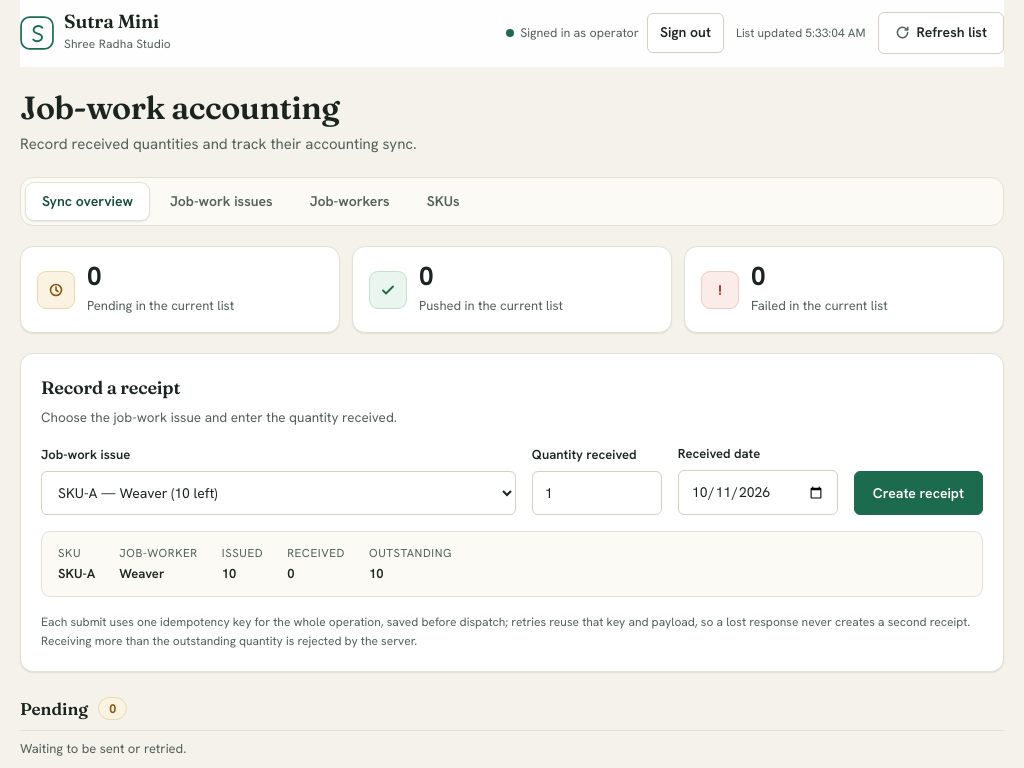
SyncPage refresh list › does not report full success on a partial failure and flags the failed section
The width and height of the screenshot is (1024, 768).
Step 1. Click the button "Refresh list" → (941, 33), box x1=878 y1=12 x2=1004 y2=54
Wait 10 ms
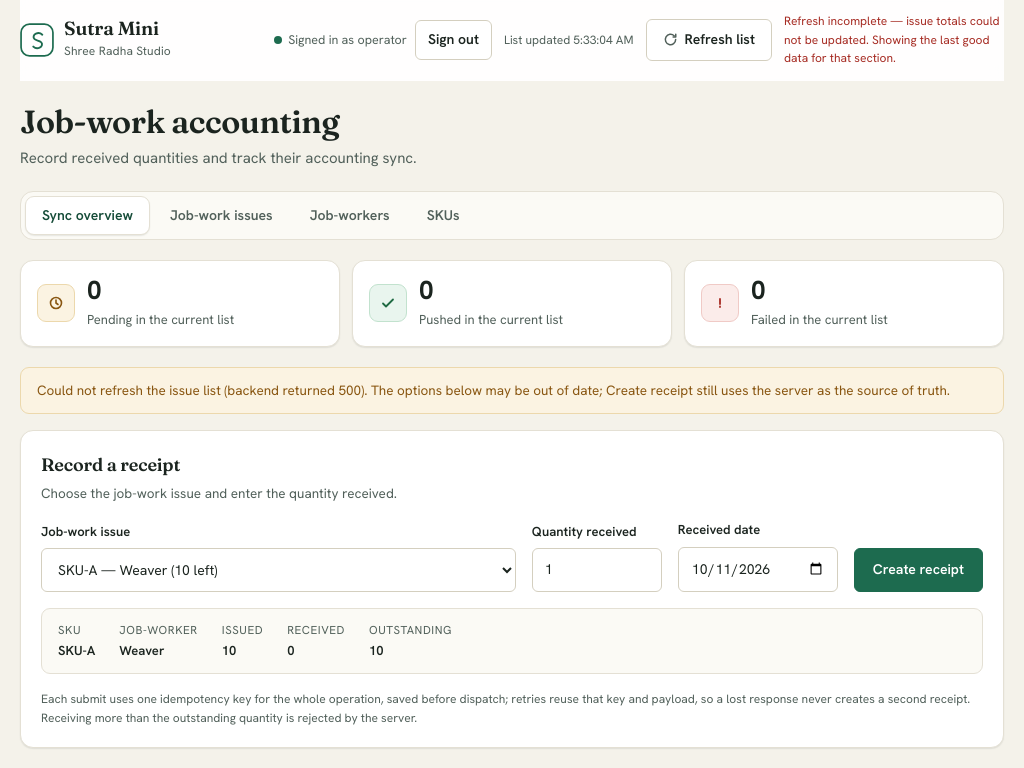
Expected: the text "Could not refresh the issue list" is shown, x1=37 y1=381 x2=227 y2=399
Expected: the text "Refresh incomplete" is shown, x1=784 y1=13 x2=1000 y2=66
